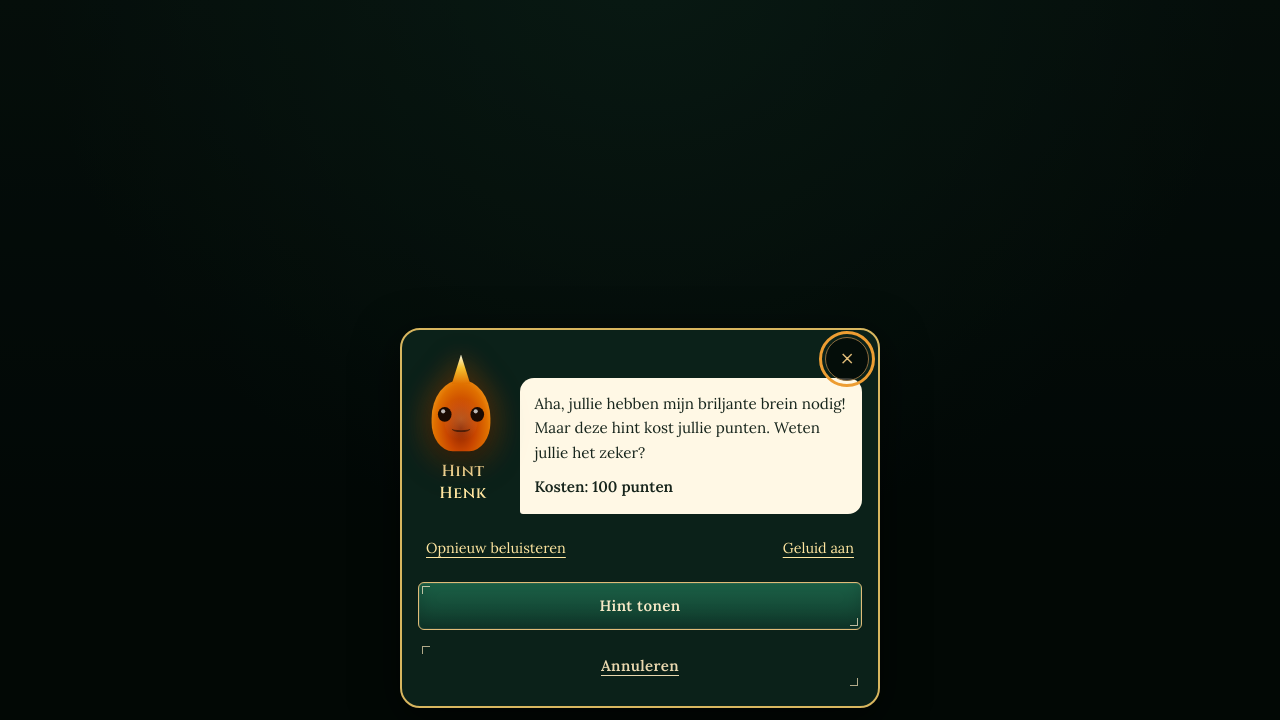
Test: Hint Henk paid hints › respects mute while still displaying the complete text
What coordinates should you click on to do the following:
click the button "Hint tonen"
I would click on:
 (640, 606)
Its box is x1=418 y1=582 x2=862 y2=630.
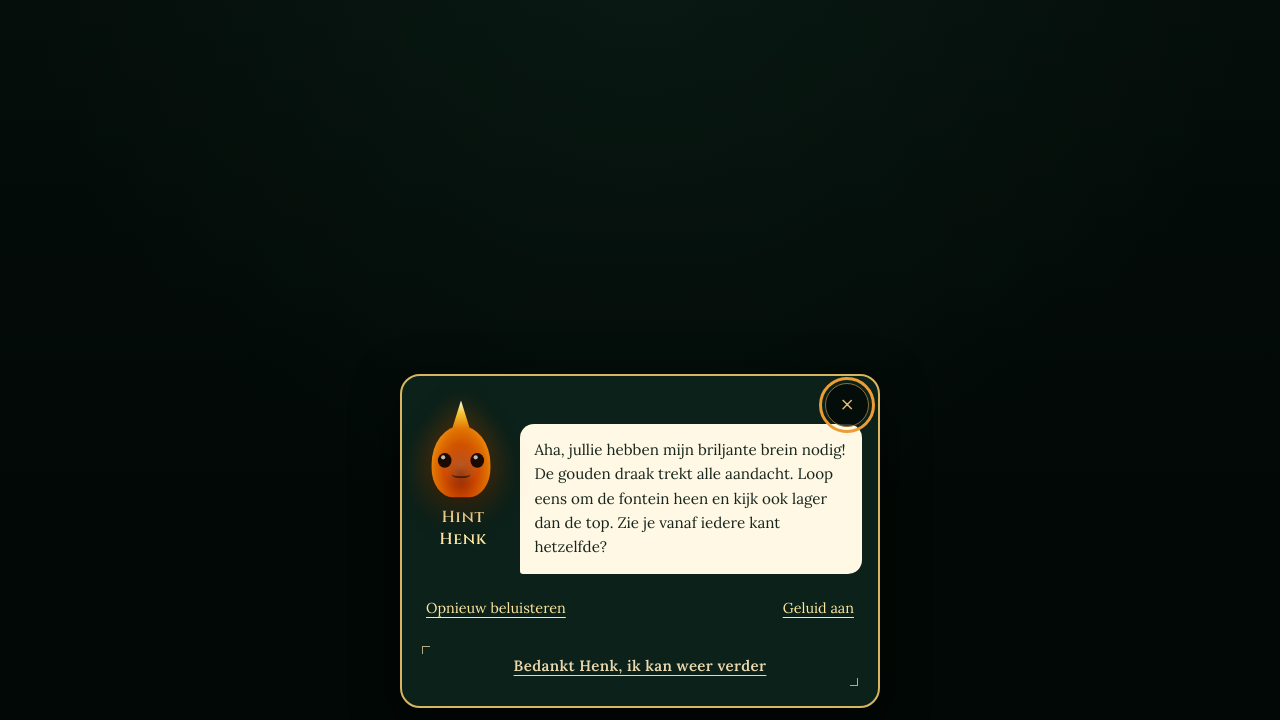
expect the text "De gouden draak trekt alle aandacht." is shown: met, box x1=534 y1=440 x2=846 y2=556
